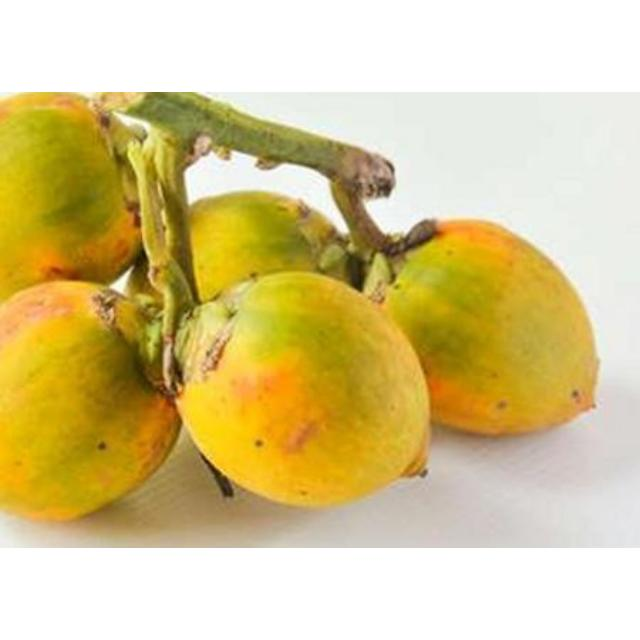good: (174, 271, 431, 510), (381, 220, 602, 439), (0, 281, 182, 526), (0, 92, 142, 307)
